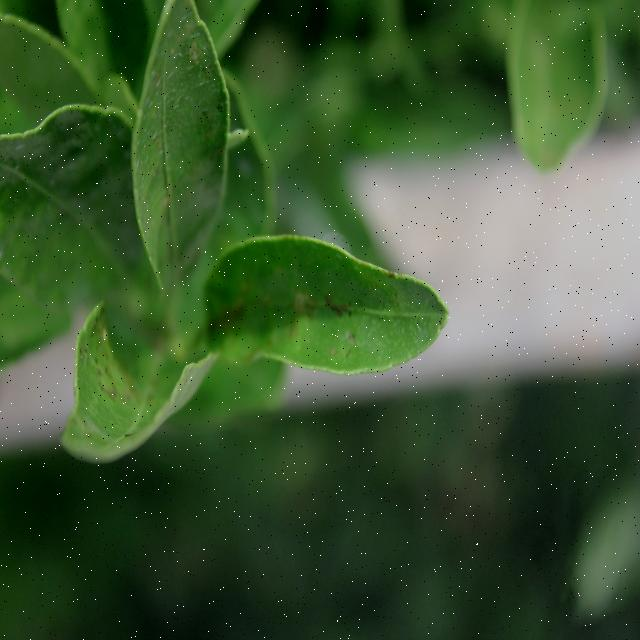canker: (207, 269, 393, 359)
